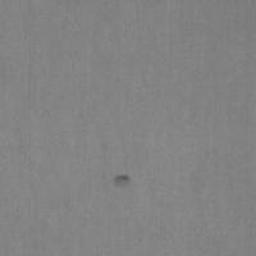Inclusion: (111, 173, 132, 187)
